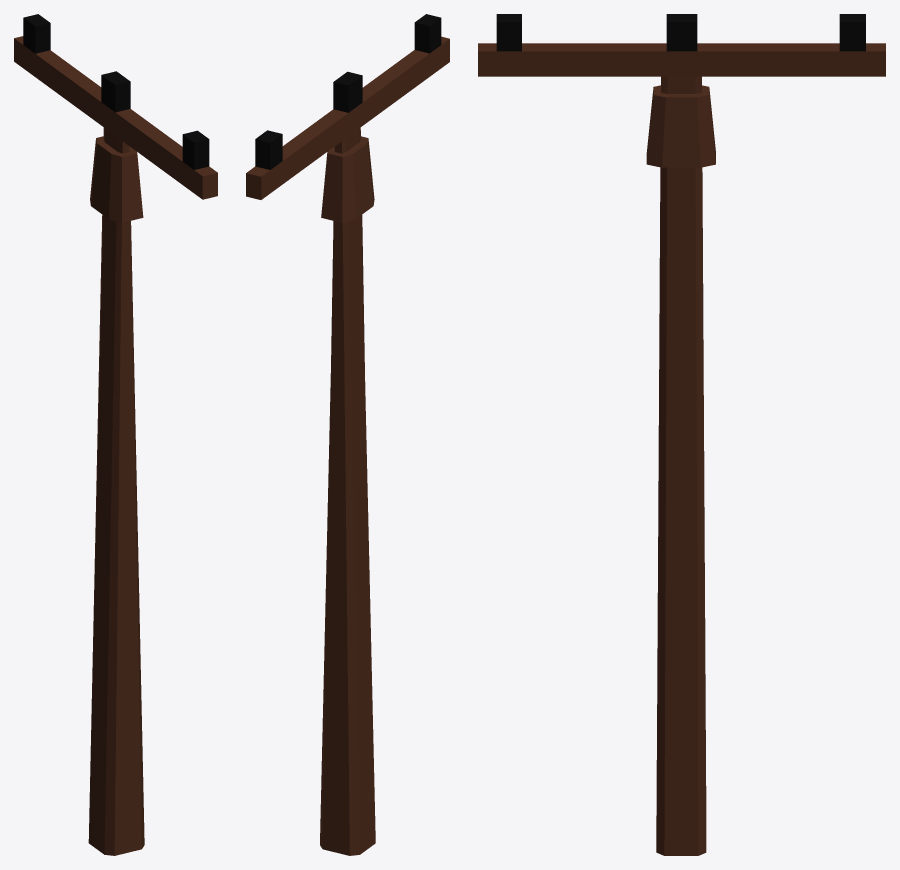
The model's file is slup telefoniczny bez kablami.fbx.
3 views of the same model, side by side, from view 1: azimuth 30°, elevation 25°; view 2: azimuth 150°, elevation 25°; view 3: azimuth 270°, elevation 25° (orthographic). The views are drawn at different scales.
Parts seen in each view (by area): view 1: slup telefoinczny bez kabli; view 2: slup telefoinczny bez kabli; view 3: slup telefoinczny bez kabli.
Part boxes in pixels (x1,y1,x2,y2): slup telefoinczny bez kabli: (14, 14, 217, 855); slup telefoinczny bez kabli: (246, 14, 449, 855); slup telefoinczny bez kabli: (478, 14, 885, 855).
Size of the model in its own units: 21.27 by 387 by 173.
